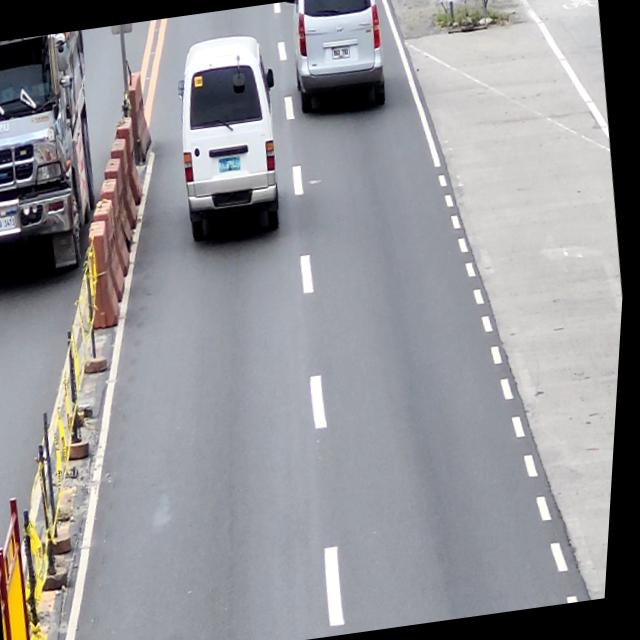Car: (165, 32, 298, 250), (281, 0, 395, 116)
License-Plate: (219, 154, 244, 174), (331, 46, 351, 60)
